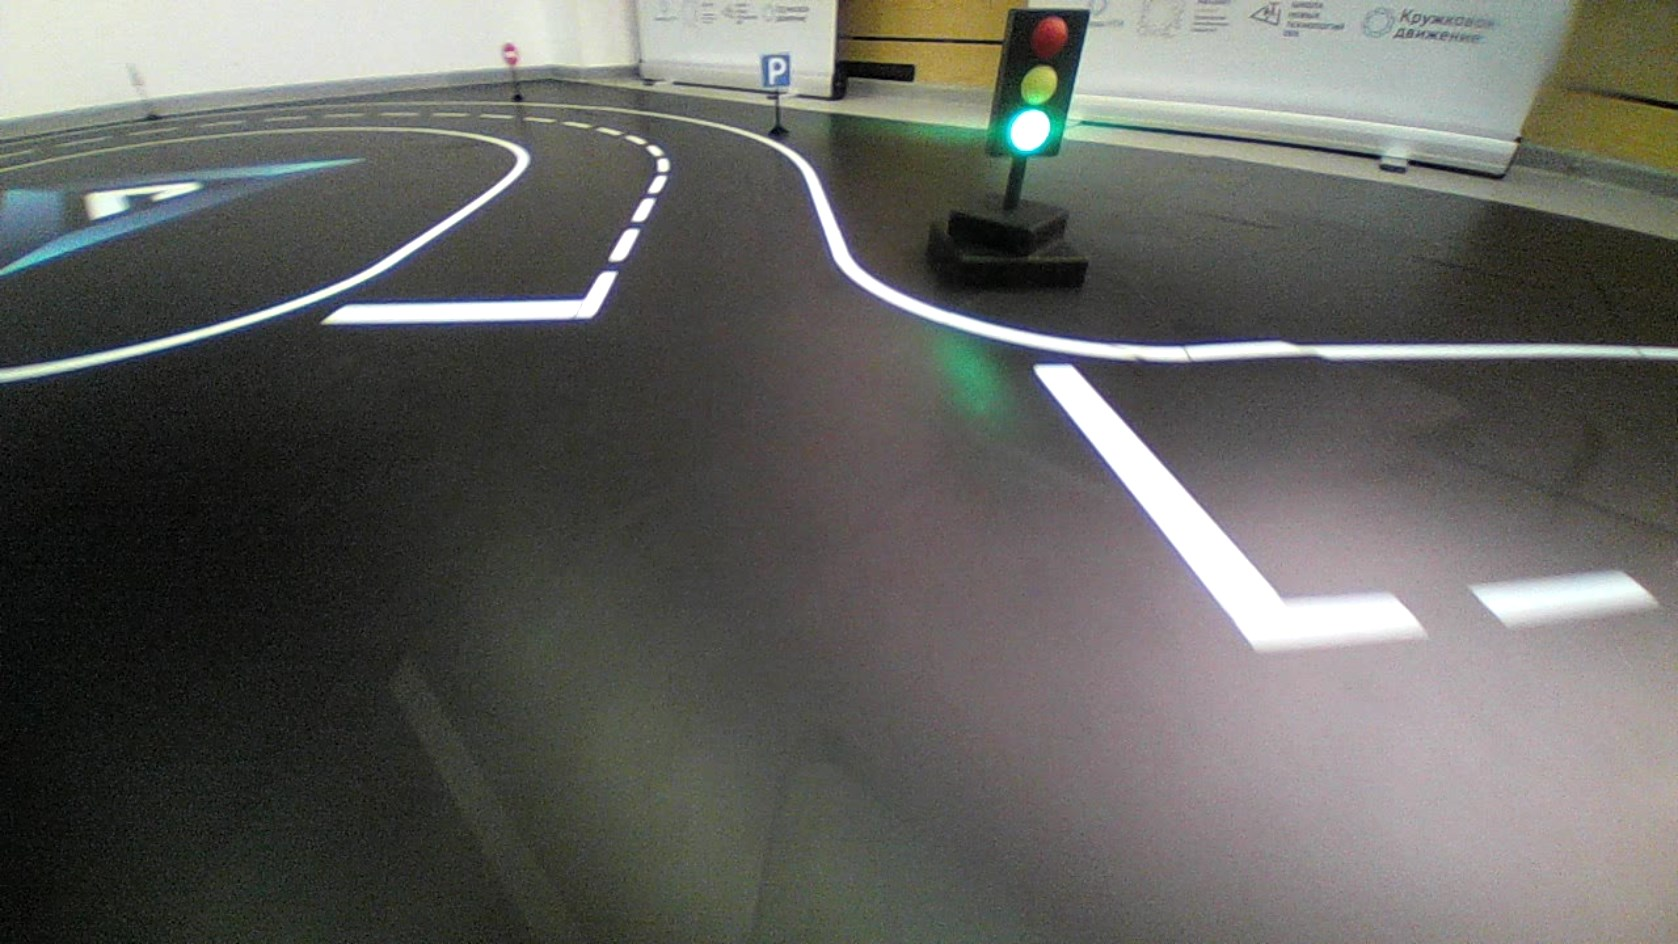trafficlight: (983, 7, 1091, 158)
